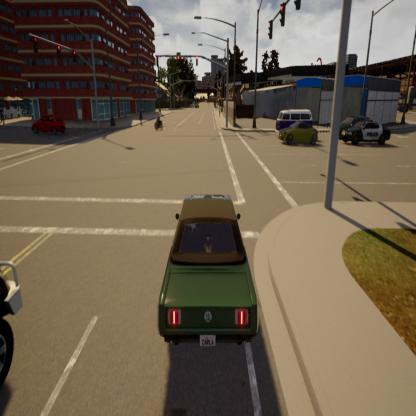Cars: (142, 186, 280, 354), (0, 224, 25, 406), (338, 116, 398, 154), (270, 106, 326, 140), (278, 120, 332, 154), (29, 109, 70, 142), (193, 97, 202, 113)
